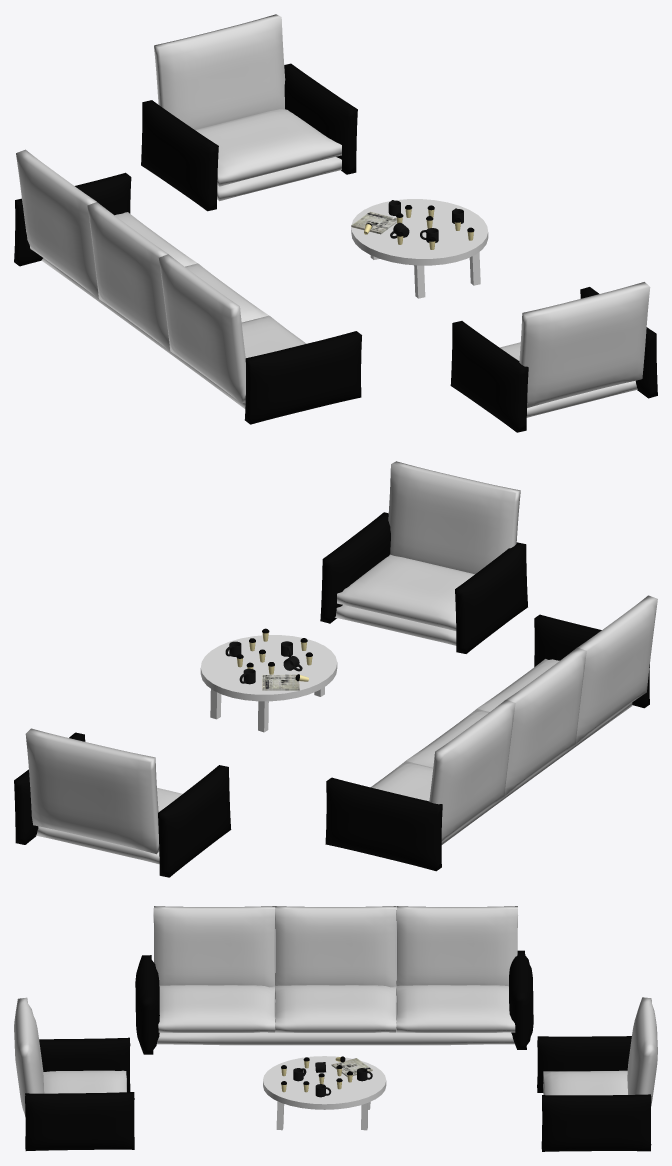
Rendered from lobby sofa and table .fbx.
The picture shows the model from 3 angles, top to bottom: view 1: azimuth 30°, elevation 25°; view 2: azimuth 150°, elevation 25°; view 3: azimuth 270°, elevation 25°; orthographic projection. The views are drawn at different scales.
Visible parts, largest first — view 1: Cube.017, Cube.010, Cube.007, Cube.005, Cube.004, Cube.003, Cube.011, Cylinder, Cube.013, Cube.018, Cube.009, Cube.008 (+8 smaller); view 2: Cube.010, Cube.017, Cube.008, Cube.003, Cube.004, Cube.005, Cube.016, Cylinder, Cube.013, Cube.018, Cube.014, Cube.007 (+8 smaller); view 3: Cube.004, Cube.005, Cube.003, Cube.014, Cube.009, Cube.001, Cube, Cube.002, Cube.006, Cylinder, Cube.013, Cube.018 (+7 smaller).
Boxes of the visible parts, <box> form: Cube.017: <box>519,282,650,407</box>; Cube.010: <box>154,14,285,129</box>; Cube.007: <box>244,331,361,424</box>; Cube.005: <box>159,254,245,403</box>; Cube.004: <box>87,202,170,351</box>; Cube.003: <box>16,149,98,298</box>; Cube.011: <box>195,109,341,186</box>; Cylinder: <box>351,199,488,265</box>; Cube.013: <box>141,100,218,211</box>; Cube.018: <box>450,321,528,432</box>; Cube.009: <box>284,63,357,174</box>; Cube.008: <box>14,172,131,266</box>; Cube.010: <box>25,728,159,854</box>; Cube.017: <box>388,461,520,574</box>; Cube.008: <box>325,777,442,871</box>; Cube.003: <box>429,699,515,841</box>; Cube.004: <box>504,647,586,795</box>; Cube.005: <box>576,595,657,743</box>; Cube.016: <box>337,554,474,630</box>; Cylinder: <box>200,635,337,701</box>; Cube.013: <box>158,765,231,877</box>; Cube.018: <box>455,542,527,653</box>; Cube.014: <box>320,512,390,623</box>; Cube.007: <box>534,614,649,708</box>; Cube.004: <box>275,906,396,987</box>; Cube.005: <box>153,906,275,987</box>; Cube.003: <box>396,906,517,986</box>; Cube.014: <box>25,1092,134,1150</box>; Cube.009: <box>541,1094,651,1151</box>; Cube.001: <box>275,985,396,1032</box>; Cube: <box>158,985,275,1032</box>; Cube.002: <box>396,985,515,1032</box>; Cube.006: <box>157,1003,514,1045</box>; Cylinder: <box>263,1056,386,1109</box>; Cube.013: <box>537,1036,631,1092</box>; Cube.018: <box>39,1037,130,1092</box>.
Bounding box in the file's own units: 753 × 239 × 1347.
